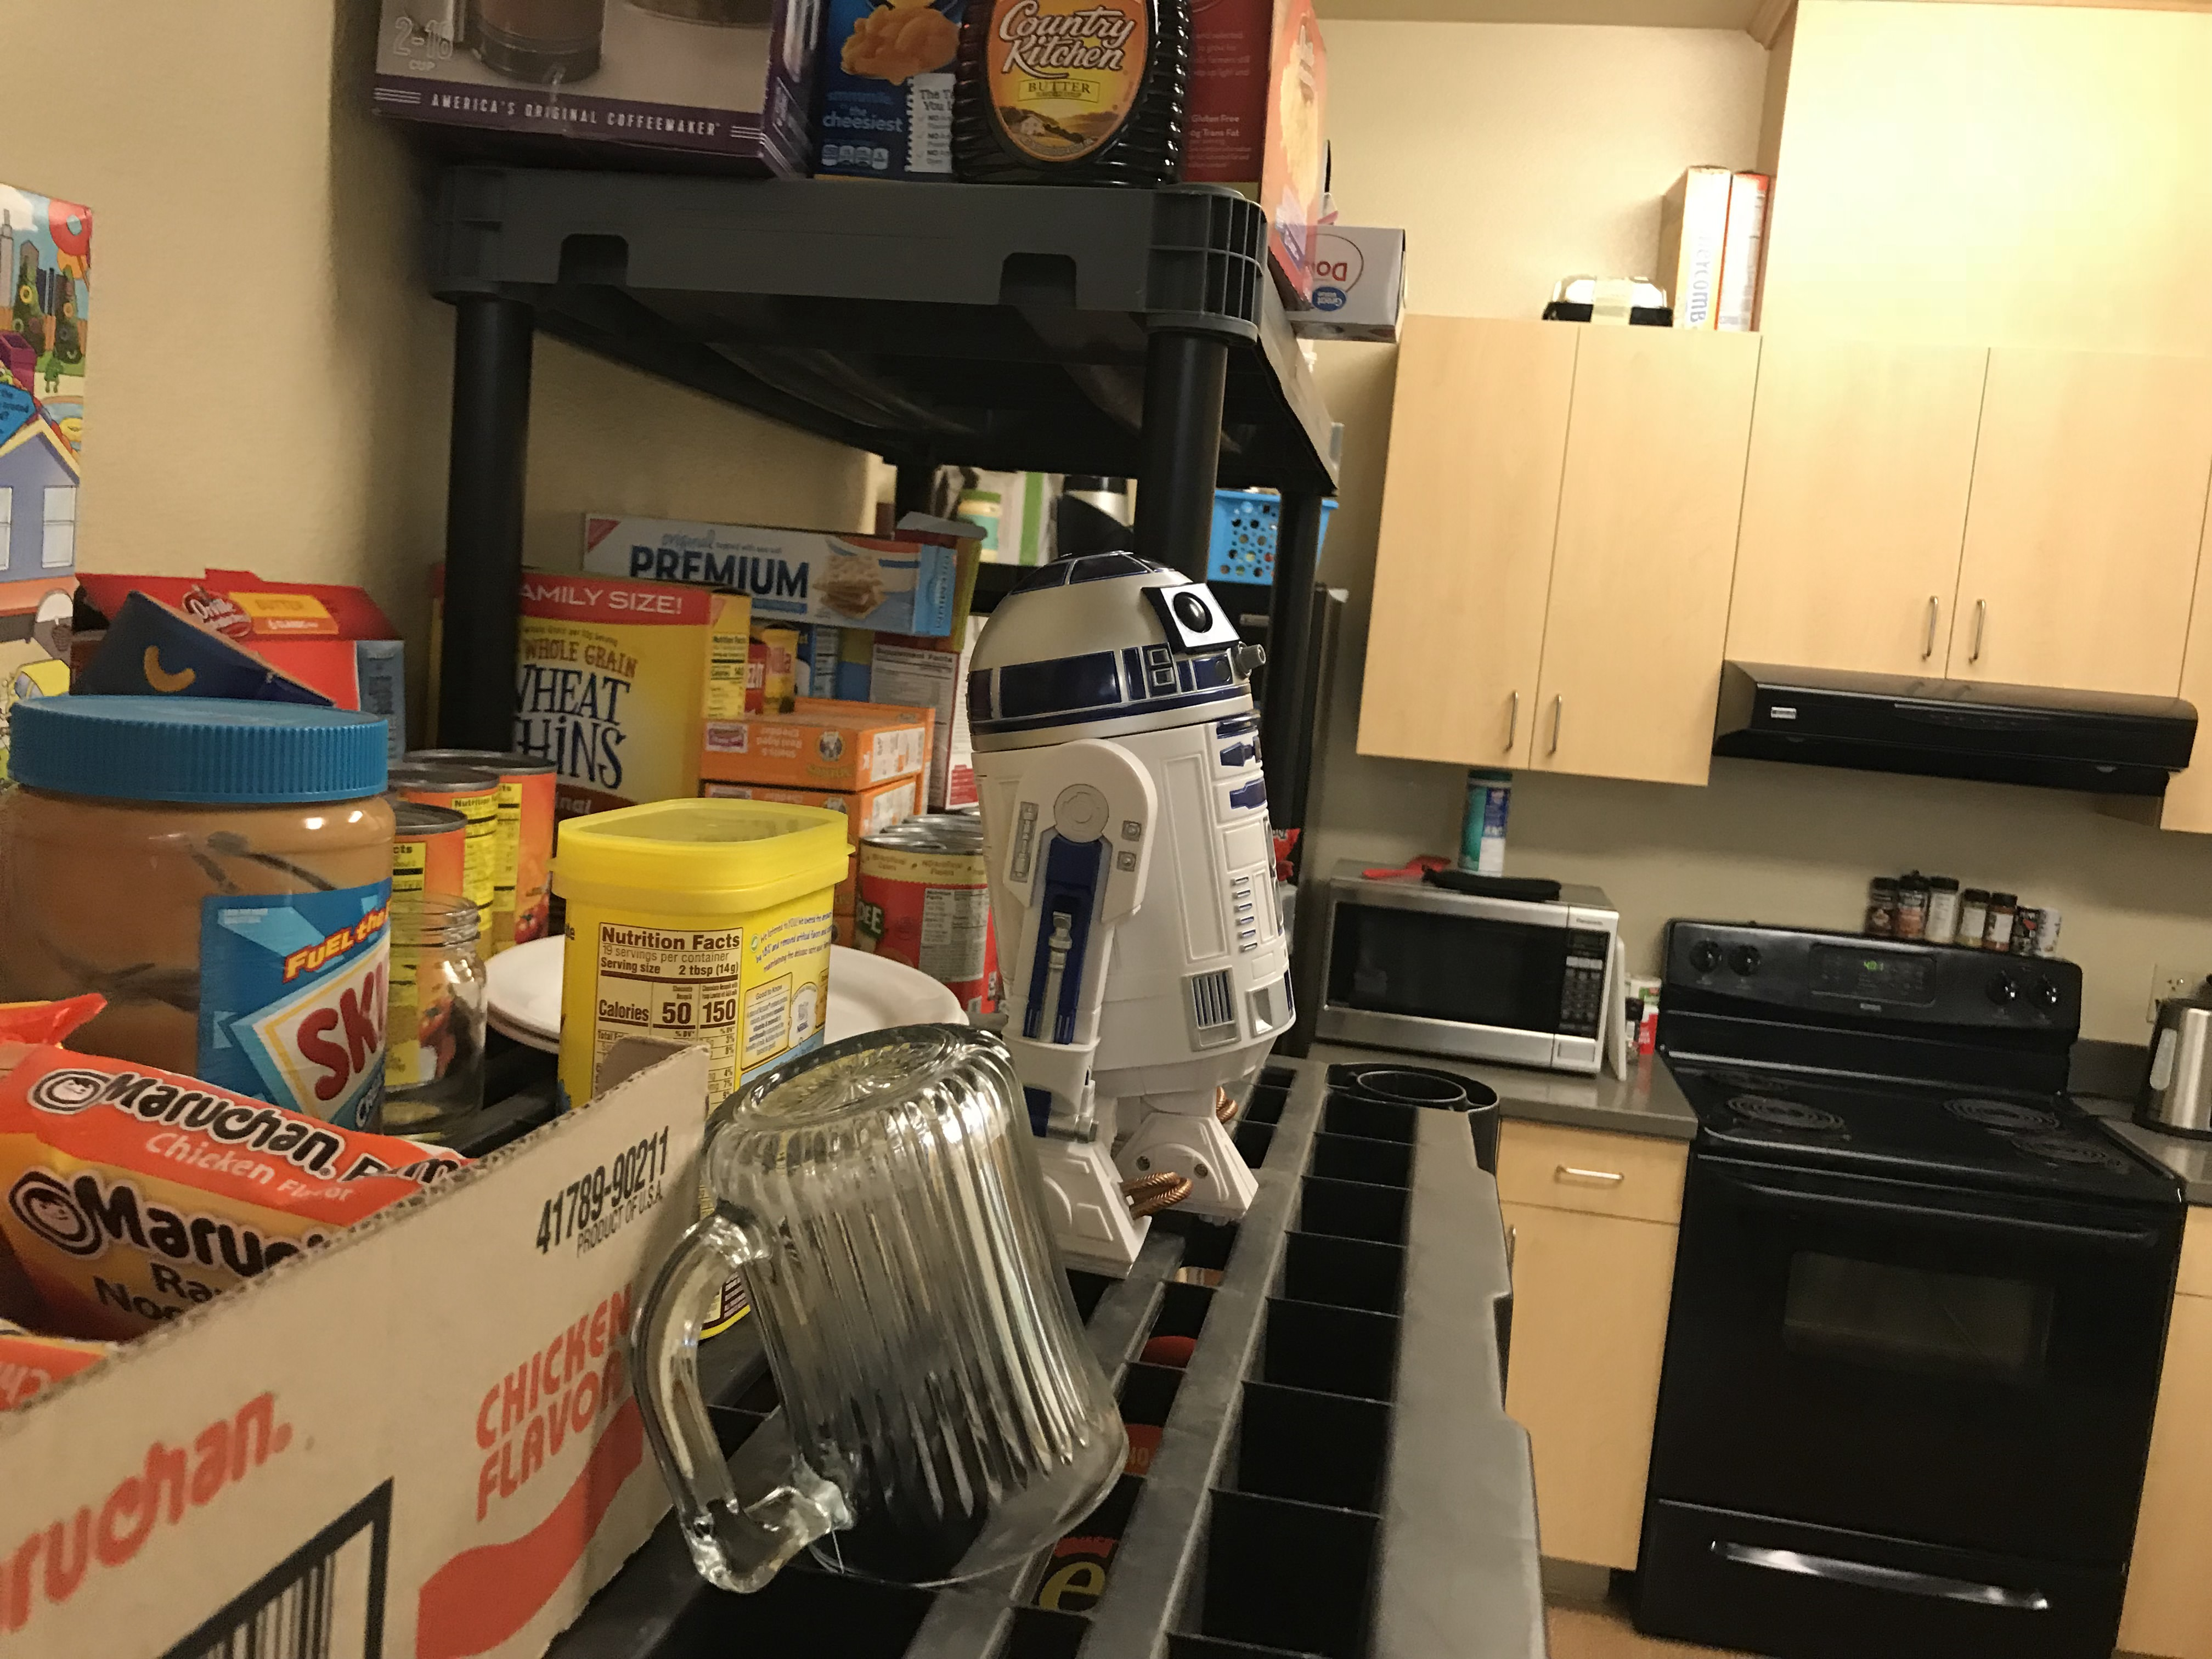r2d2: (975, 547, 1299, 1284)
